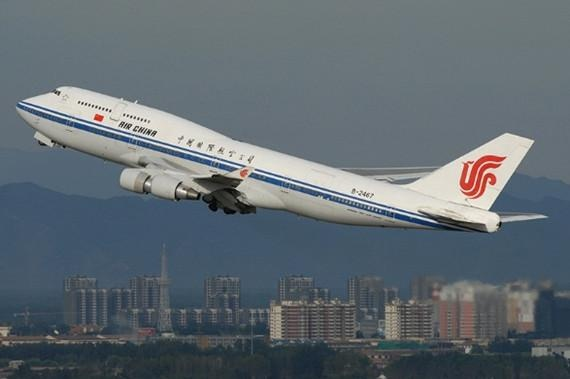airplane: (9, 83, 554, 233)
